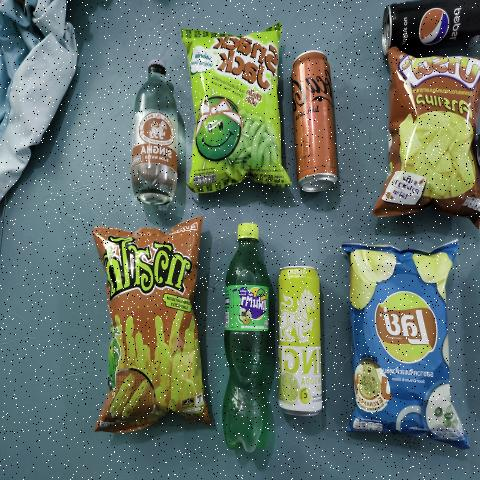coke_red: (291, 46, 340, 193)
fanta_green: (223, 220, 265, 460)
lay_blue: (353, 256, 446, 422)
party_red: (396, 54, 478, 200)
singha_soda: (129, 62, 177, 202)
singha_yellow: (278, 268, 323, 412)
snack_jack: (197, 34, 275, 180)
twisco: (112, 229, 193, 418)
